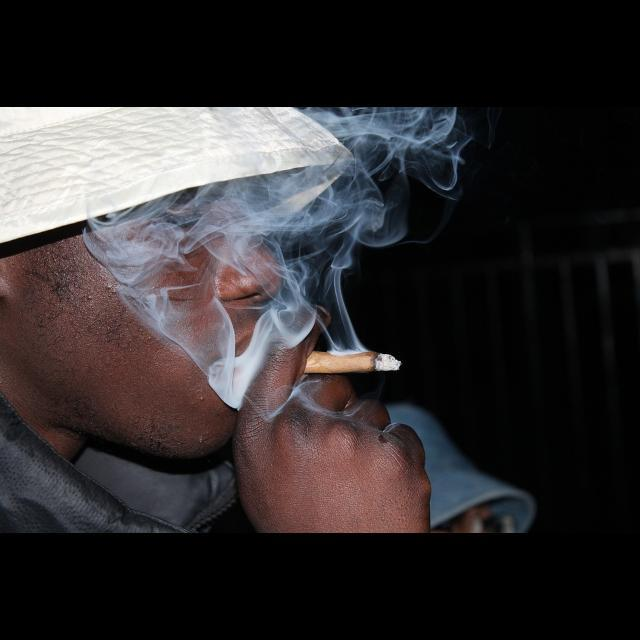rokok: (304, 347, 404, 379)
